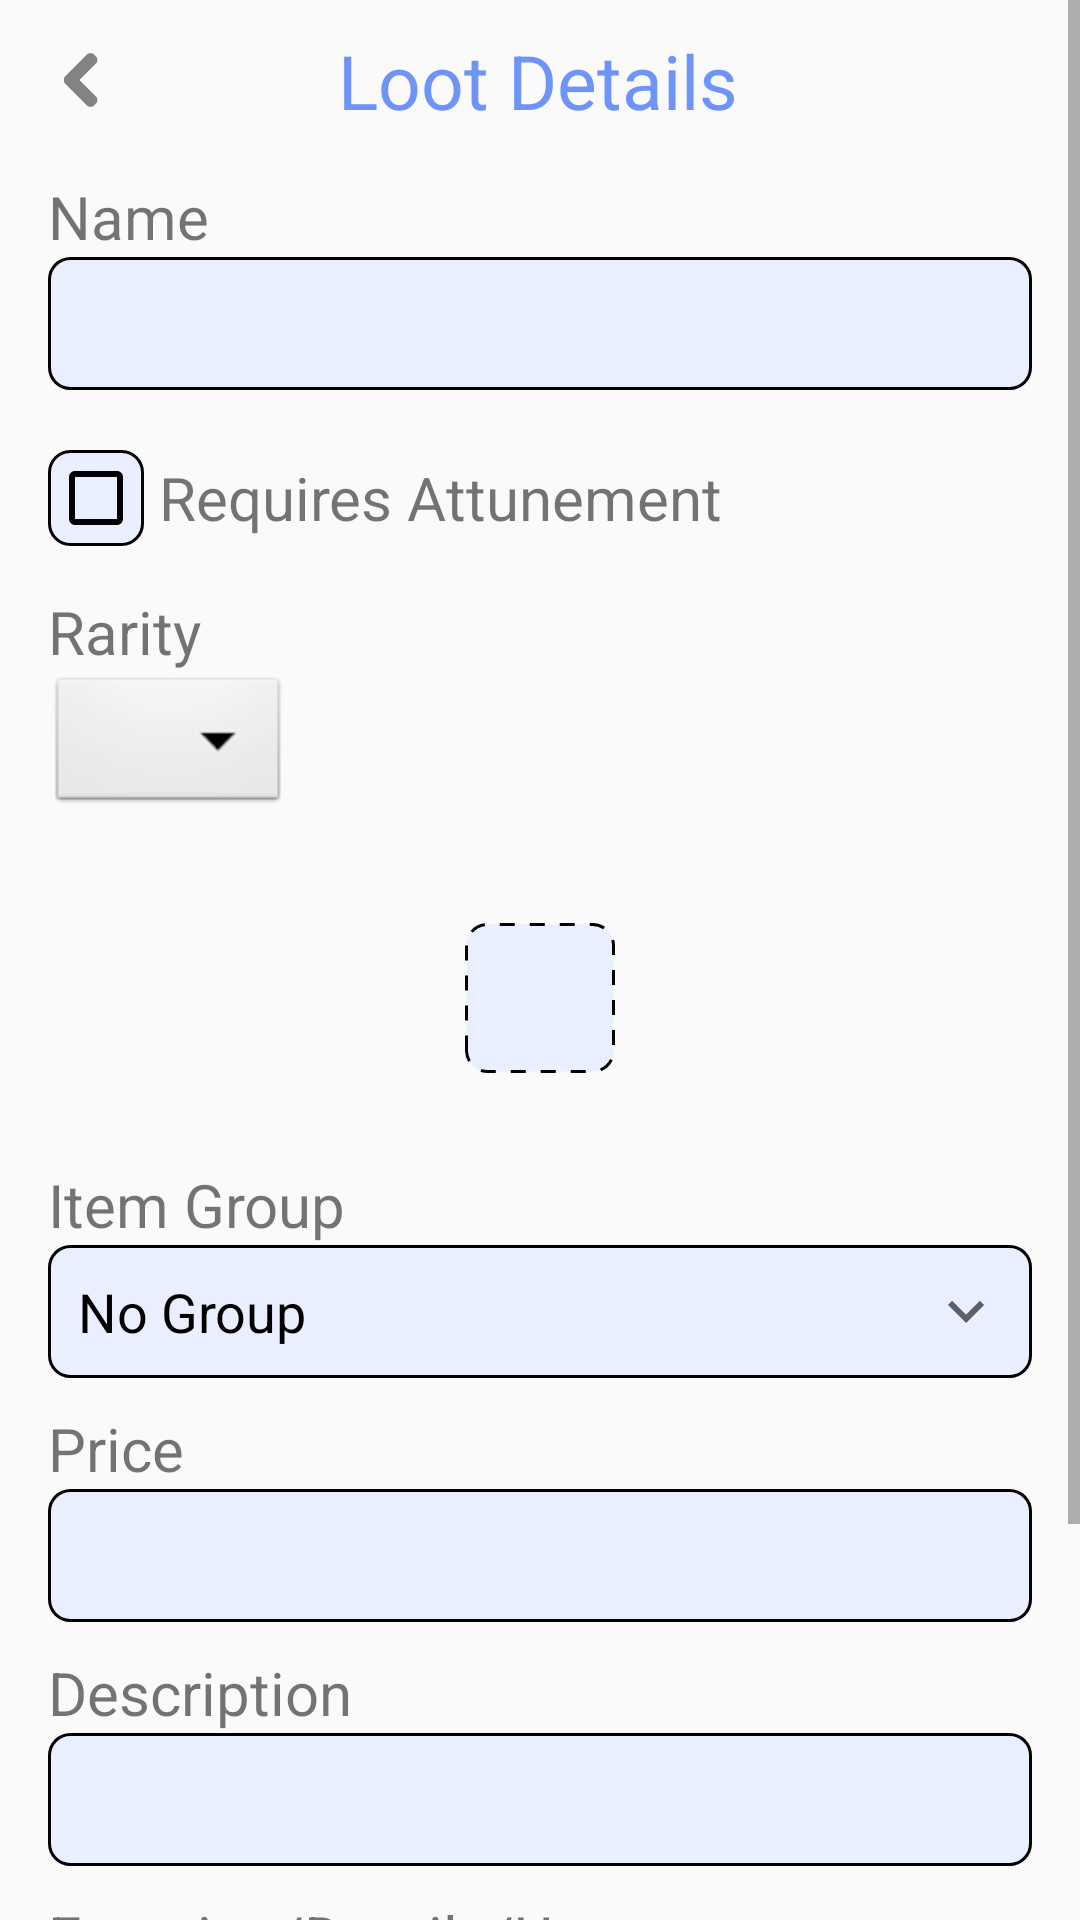

Named icons in this screenshot (1080px x 1920px) and their bounding boxes, bbox(x1, y1, x2, y2):
backarrow: bbox(64, 53, 98, 107)
